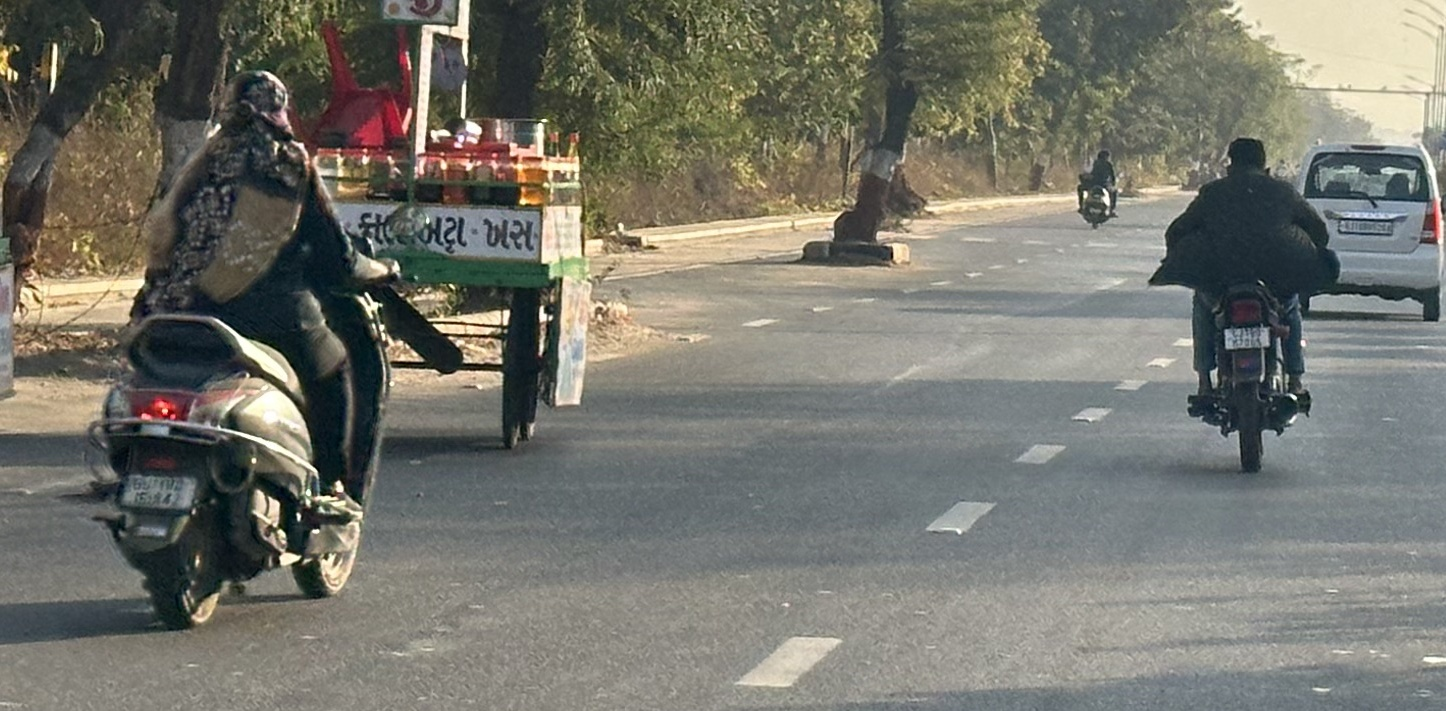BikeWithRider: (80, 59, 432, 630), (1151, 118, 1361, 493)
NoHelmet: (225, 59, 304, 147), (1213, 118, 1287, 192)
